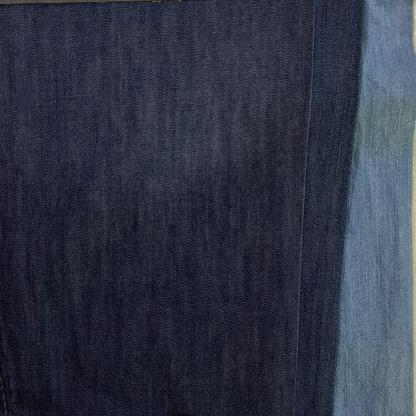spot: (31, 75, 416, 314)
